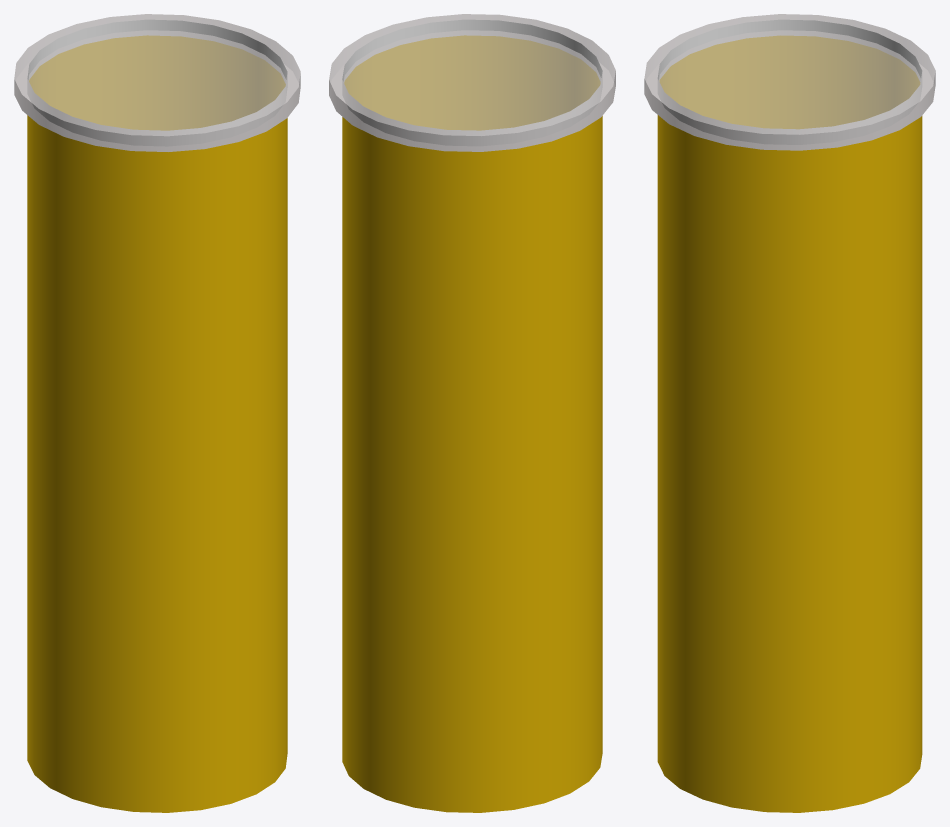
The model's file is Chips.fbx.
3 views of the same model, side by side, from view 1: azimuth 30°, elevation 25°; view 2: azimuth 150°, elevation 25°; view 3: azimuth 270°, elevation 25° (orthographic).
Visible parts, largest first — view 1: Group1; view 2: Group1; view 3: Group1.
Part boxes in pixels (x1,y1,x2,y2): Group1: (14, 14, 300, 812); Group1: (329, 14, 615, 812); Group1: (644, 14, 935, 812).
Bounding box in the file's own units: 3.06 × 8.06 × 3.11.
